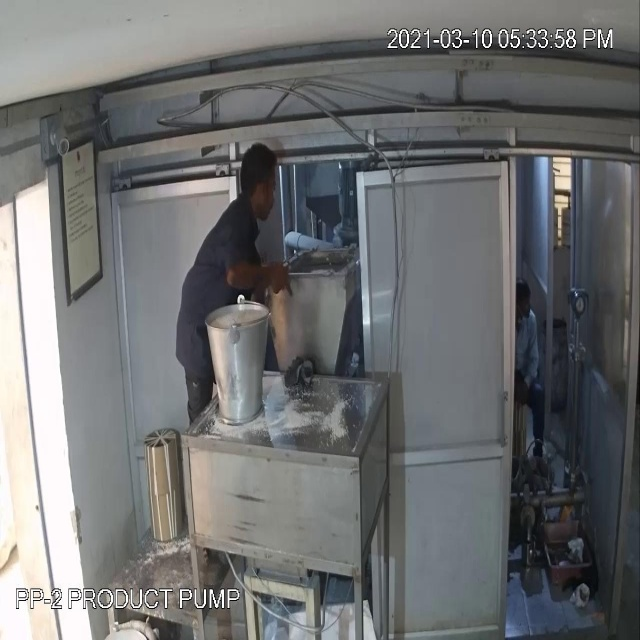Sin_guantes: (220, 244, 300, 319)
